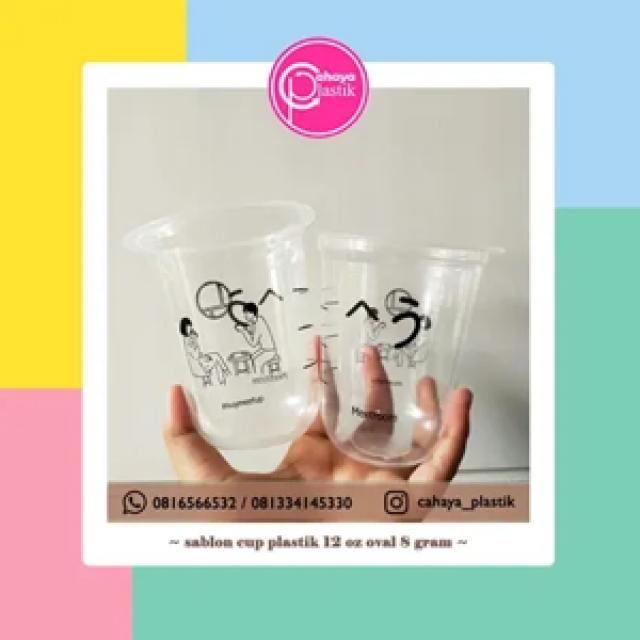plastic cup: (117, 201, 322, 452), (314, 222, 508, 478)
